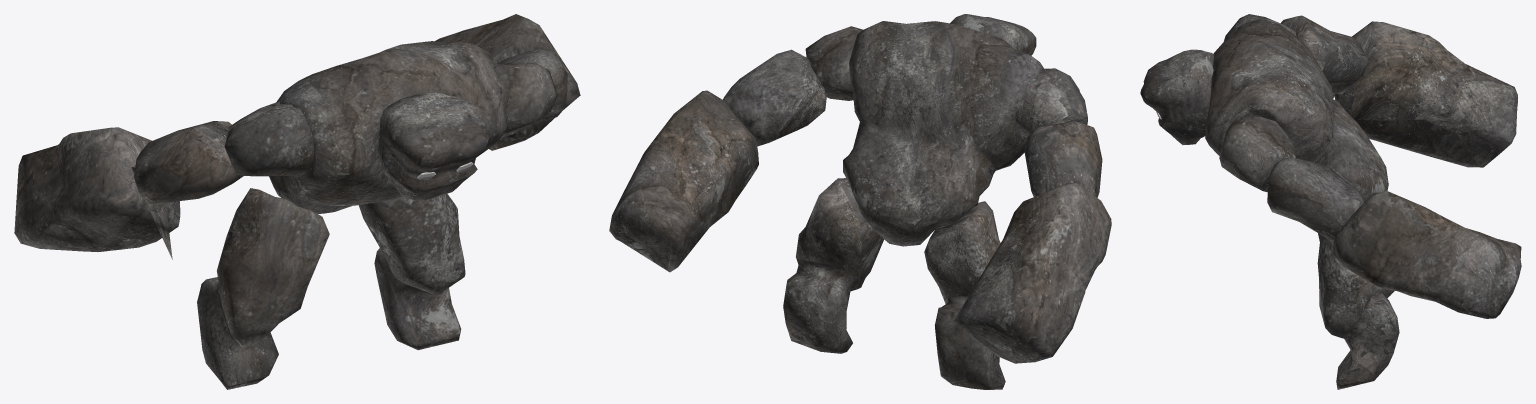
The model's file is jump_000007.obj.
3 renders of one model, left to right at view 1: azimuth 30°, elevation 25°; view 2: azimuth 150°, elevation 25°; view 3: azimuth 270°, elevation 25°, orthographic. The views are drawn at different scales.
Parts seen in each view (by area): view 1: hands&leg.001_ice.003, torso.001_ice.005, head.001_ice.004; view 2: hands&leg.001_ice.003, torso.001_ice.005, head.001_ice.004; view 3: hands&leg.001_ice.003, torso.001_ice.005, head.001_ice.004.
Part boxes in pixels (box(x1,y1,x2,y2)): hands&leg.001_ice.003: box(14, 14, 580, 389); torso.001_ice.005: box(269, 41, 507, 213); head.001_ice.004: box(378, 91, 488, 200); hands&leg.001_ice.003: box(609, 26, 1111, 389); torso.001_ice.005: box(843, 21, 1044, 246); head.001_ice.004: box(950, 14, 1036, 55); hands&leg.001_ice.003: box(1219, 14, 1521, 389); torso.001_ice.005: box(1205, 19, 1388, 202); head.001_ice.004: box(1140, 49, 1214, 144).
Bounding box in the file's own units: 11.9 × 7.94 × 9.05.
2 materials, 1 textured.
